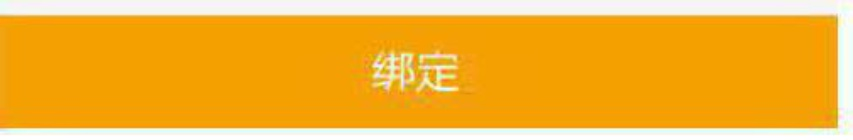Button: (1, 1, 852, 139)
